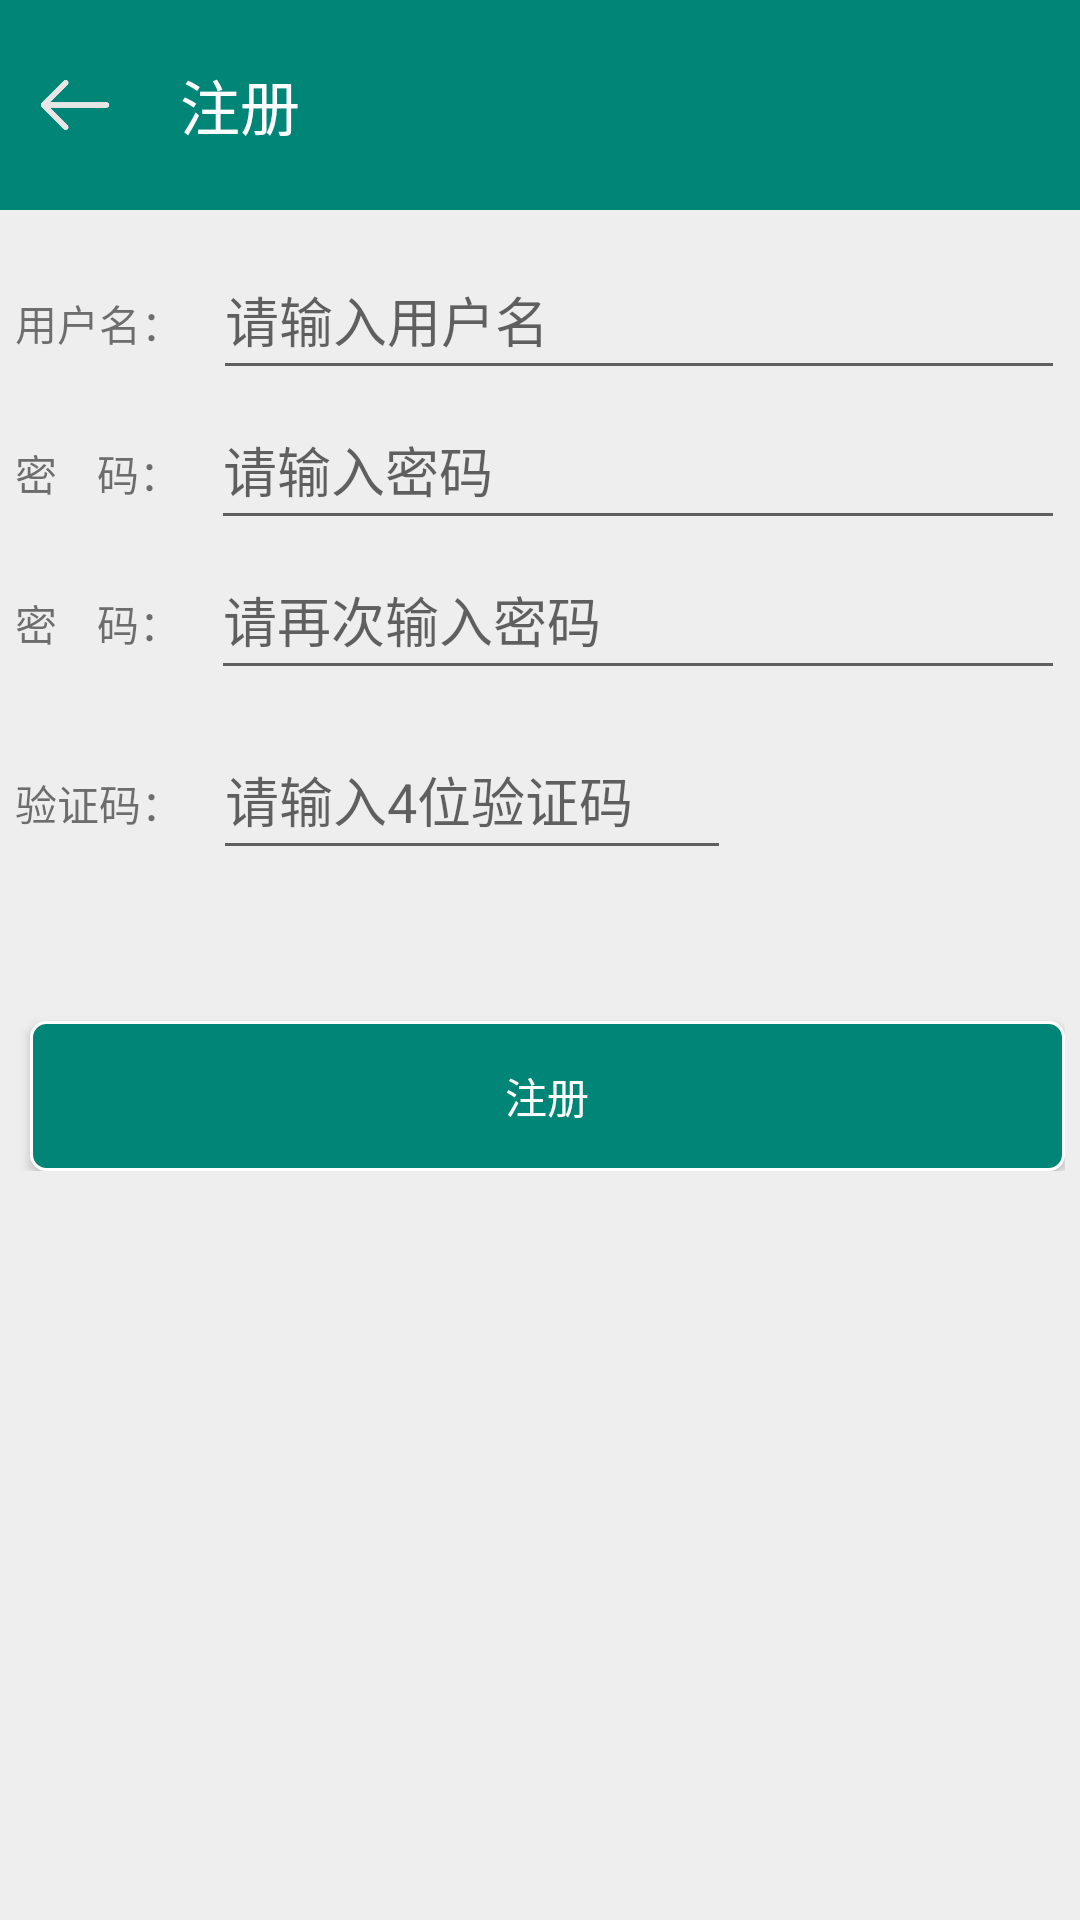

Locate icon controls on the screen. Image size 1080px×1920px, boxes as (x1, y1, x2, y2).
back: (41, 80, 110, 130)
